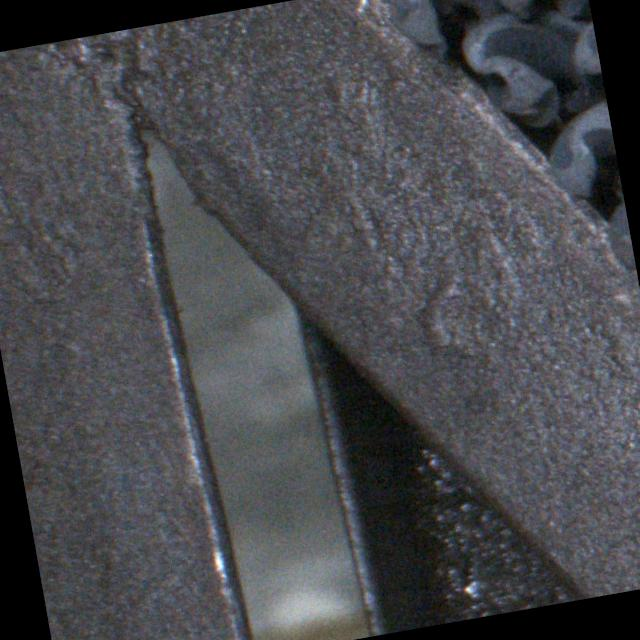tool_b: (456, 0, 600, 135), (542, 102, 624, 214), (386, 0, 513, 65), (564, 0, 607, 111), (489, 0, 590, 26)
